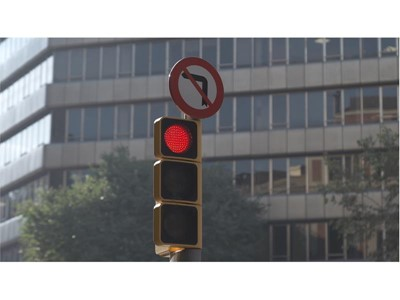trafficlight_red: (154, 117, 200, 247)
